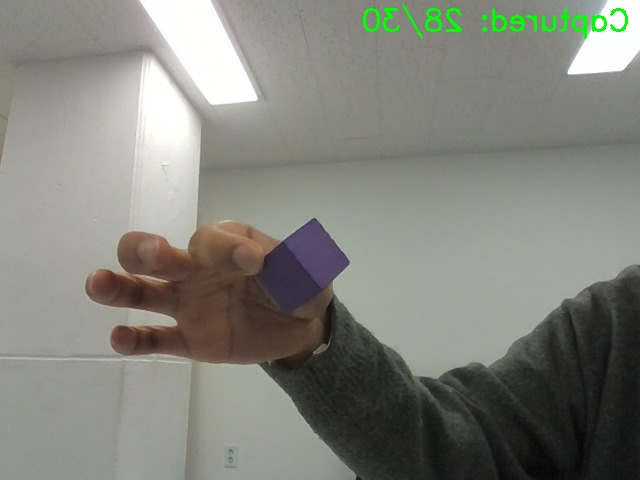Normal: (241, 273, 339, 343)
